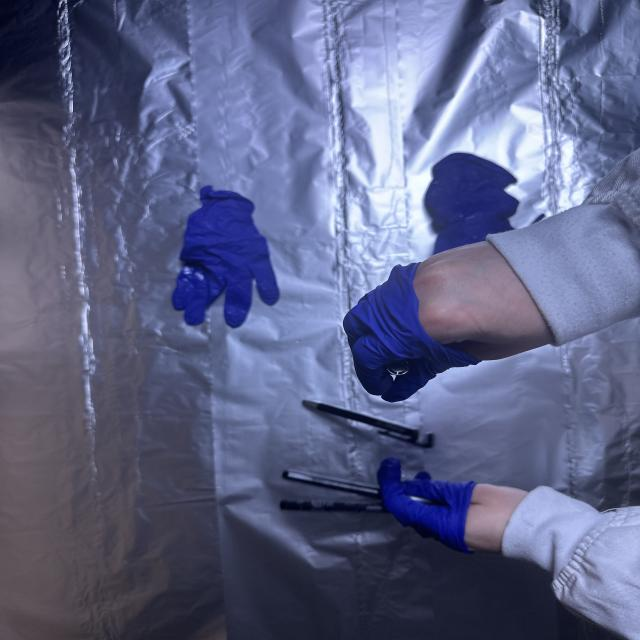glove_partial: (342, 240, 553, 408), (377, 455, 533, 561)
